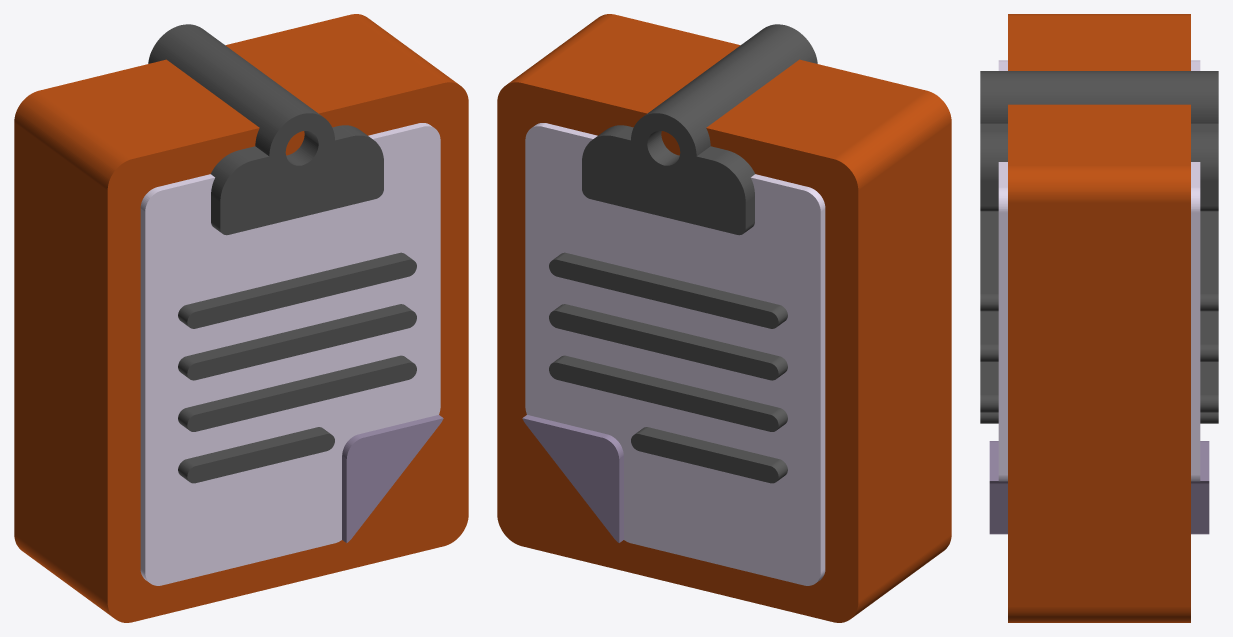
The picture shows the model from 3 angles, left to right: view 1: azimuth 30°, elevation 25°; view 2: azimuth 150°, elevation 25°; view 3: azimuth 270°, elevation 25°; orthographic projection.
Visible parts, largest first — view 1: U+1F4CB_layer00_obj00, U+1F4CB_layer01_obj00, U+1F4CB_layer03_obj00, U+1F4CB_layer02_obj00; view 2: U+1F4CB_layer00_obj00, U+1F4CB_layer01_obj00, U+1F4CB_layer03_obj00, U+1F4CB_layer02_obj00; view 3: U+1F4CB_layer00_obj00, U+1F4CB_layer03_obj00, U+1F4CB_layer01_obj00, U+1F4CB_layer02_obj00.
Part boxes in pixels (box(x1,y1,x2,y2)): U+1F4CB_layer00_obj00: box(14, 14, 468, 622); U+1F4CB_layer01_obj00: box(140, 123, 440, 585); U+1F4CB_layer03_obj00: box(148, 24, 416, 483); U+1F4CB_layer02_obj00: box(342, 415, 443, 542); U+1F4CB_layer00_obj00: box(497, 14, 951, 622); U+1F4CB_layer01_obj00: box(525, 123, 825, 585); U+1F4CB_layer03_obj00: box(549, 24, 817, 483); U+1F4CB_layer02_obj00: box(522, 415, 623, 542); U+1F4CB_layer00_obj00: box(1008, 14, 1190, 622); U+1F4CB_layer03_obj00: box(980, 71, 1218, 423); U+1F4CB_layer01_obj00: box(998, 60, 1200, 481); U+1F4CB_layer02_obj00: box(989, 441, 1209, 534).
Bounding box in the file's own units: 0.4465 × 0.5677 × 0.26.
